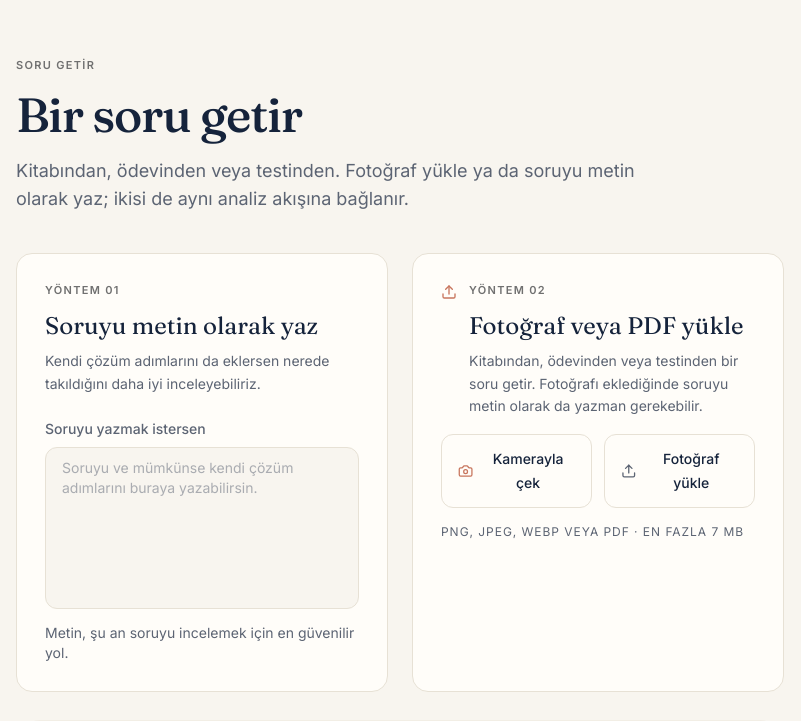
Test: SoruGetir › asks for the student answer once the question exists
Step 1. Type "f(x)=2x+3 ise f(5) kaçtır?" into the text box labelled "Soruyu yazmak istersen" → (202, 528), box left=45, top=447, right=359, bottom=609
(page scrolled)
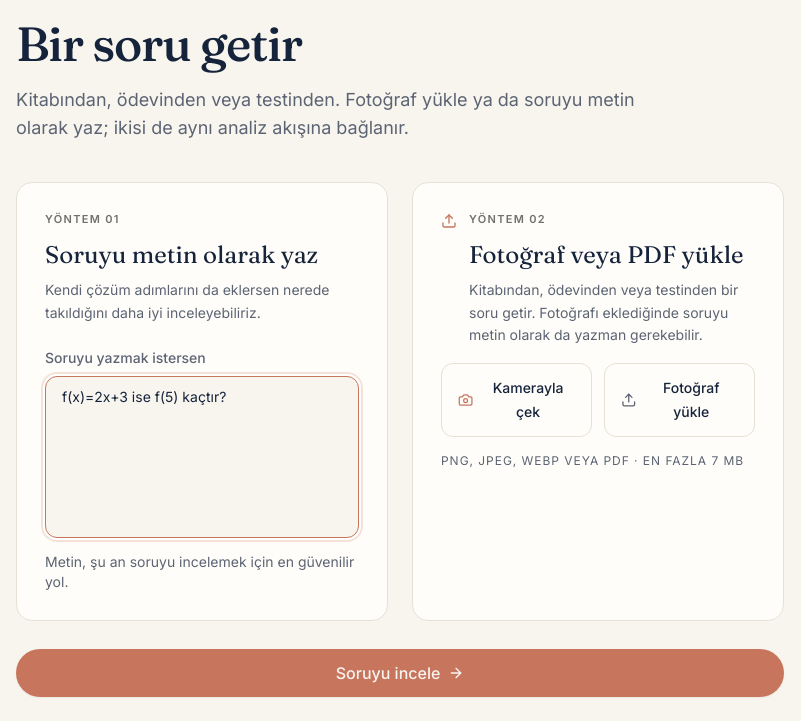
Step 2. Click the button "Soruyu incele" → (400, 673), box left=16, top=649, right=784, bottom=697
(page scrolled)
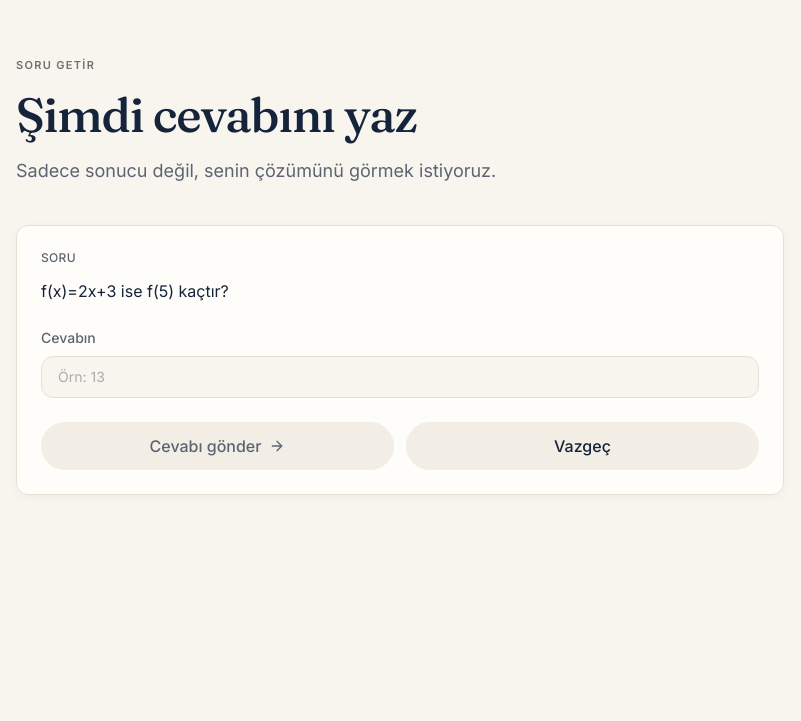
Now the heading "Şimdi cevabını yaz" is shown, box left=16, top=85, right=417, bottom=144
Now the text "f(x)=2x+3 ise f(5) kaçtır?" is shown, box left=41, top=281, right=229, bottom=301
